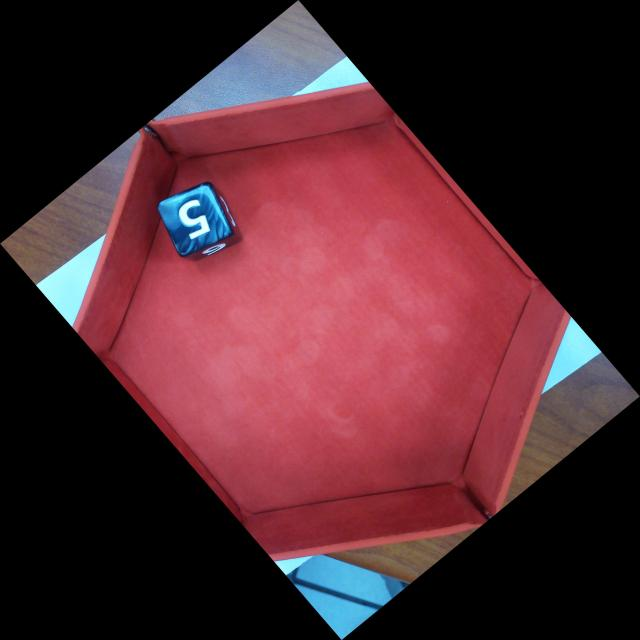dice: (157, 184, 234, 257)
